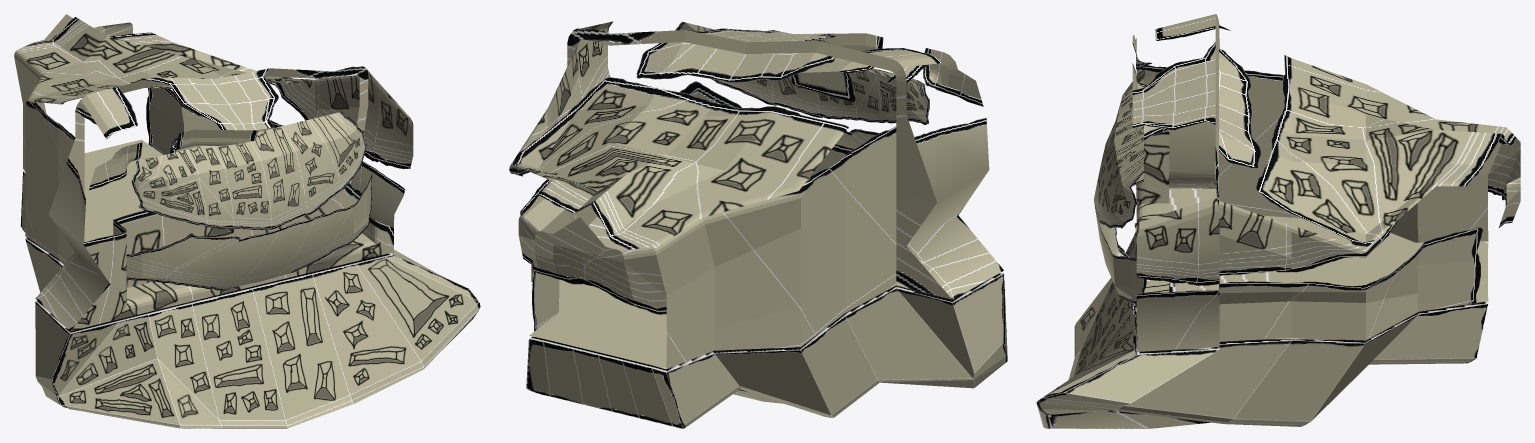
Rendered from computer.fbx.
3 views of the same model, side by side, from view 1: azimuth 30°, elevation 25°; view 2: azimuth 150°, elevation 25°; view 3: azimuth 270°, elevation 25° (orthographic). The views are drawn at different scales.
Parts seen in each view (by area): view 1: Computerv2, Object001, Screen001; view 2: Computerv2, Object001, Screen001; view 3: Computerv2, Object001, Screen001.
Part boxes in pixels (x1=…): Computerv2: x1=14, y1=14, x2=413, y2=331; Object001: x1=20, y1=171, x2=480, y2=428; Screen001: x1=126, y1=111, x2=372, y2=290; Computerv2: x1=509, y1=21, x2=1003, y2=369; Object001: x1=526, y1=272, x2=1007, y2=428; Screen001: x1=661, y1=22, x2=929, y2=153; Computerv2: x1=1132, y1=14, x2=1520, y2=351; Object001: x1=1036, y1=232, x2=1488, y2=428; Screen001: x1=1094, y1=68, x2=1146, y2=318.
Size of the model in its own units: 75.73 by 60.52 by 82.03.
